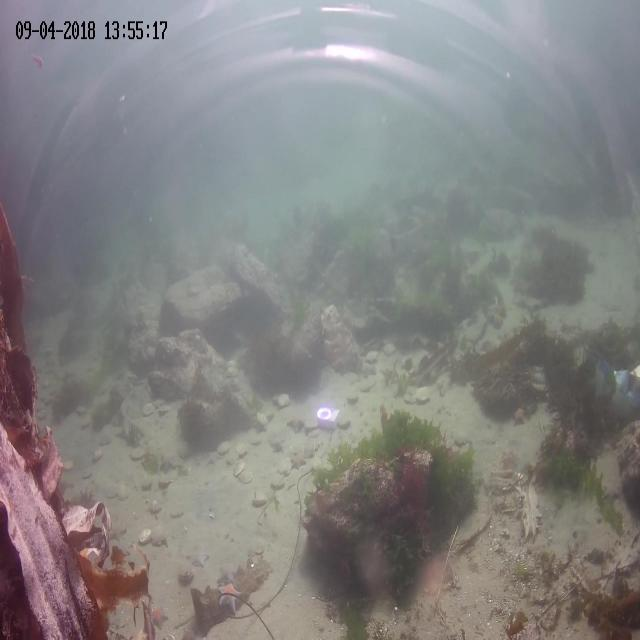scallop: (176, 563, 194, 584), (149, 527, 166, 548), (250, 490, 268, 509), (344, 389, 362, 407), (416, 386, 432, 406), (168, 501, 184, 521), (277, 390, 292, 410), (271, 475, 286, 493), (139, 473, 153, 492), (380, 340, 394, 358), (232, 462, 245, 481), (130, 445, 146, 460), (137, 529, 152, 545), (157, 476, 171, 493), (217, 439, 230, 457), (365, 351, 380, 366), (238, 470, 252, 486), (117, 486, 129, 504), (337, 414, 352, 428), (142, 402, 156, 416), (62, 456, 73, 473), (157, 404, 170, 417), (148, 502, 162, 514), (82, 470, 94, 480), (93, 449, 101, 462)
starfish: (217, 580, 241, 614), (148, 600, 170, 632), (285, 411, 305, 433), (289, 450, 306, 474), (188, 551, 210, 569), (512, 403, 526, 428), (268, 434, 284, 455)
